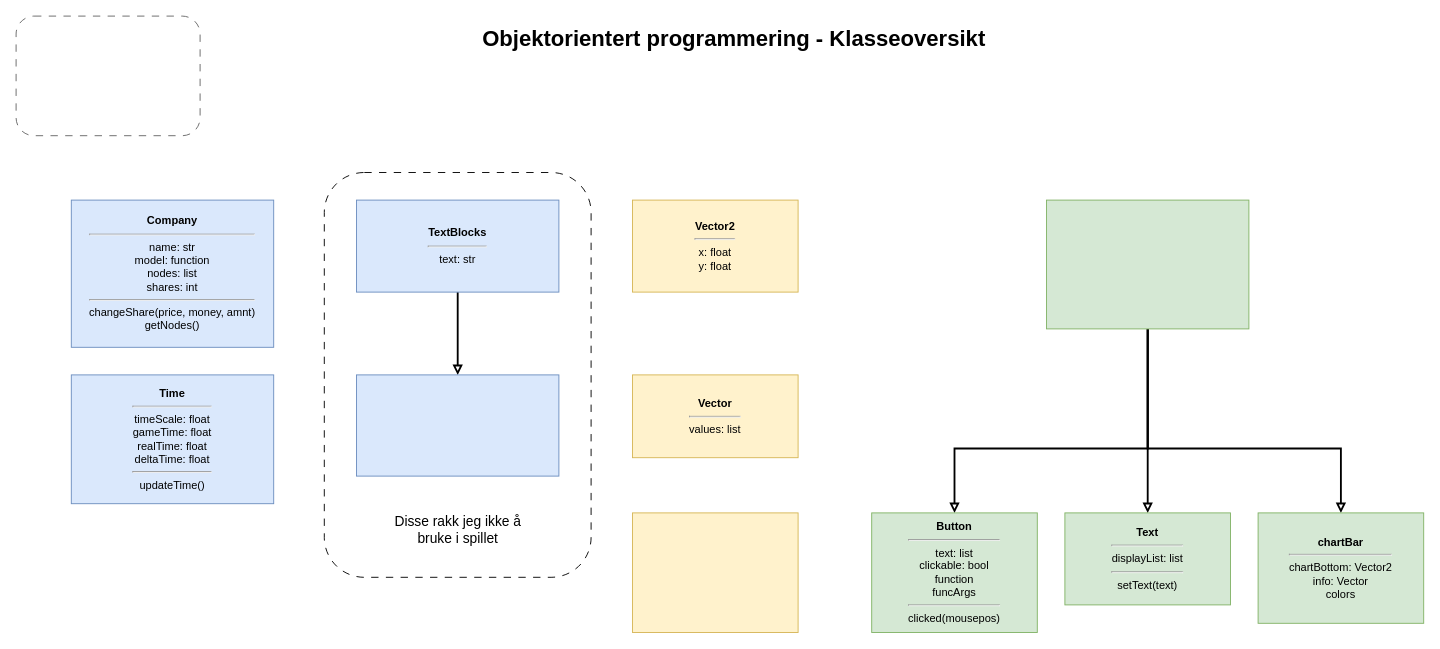
The diagram is 1440 pixels wide and 649 high, and some of its shapes have lost their labels. Each missing label, with the centre of its shape:
Cell char: str fg: Vector bg: Vector styles: list: [715,572]
Informasjon Blå = spilldata Grønn = UI/visning Gul = hjelpetyper: [107,75]
Newspaper firm: str baseEffect: float: [457,425]
UI pos: Vector2 size: Vector2 displayList: list colors render(terminal, buffer): [1147,264]
